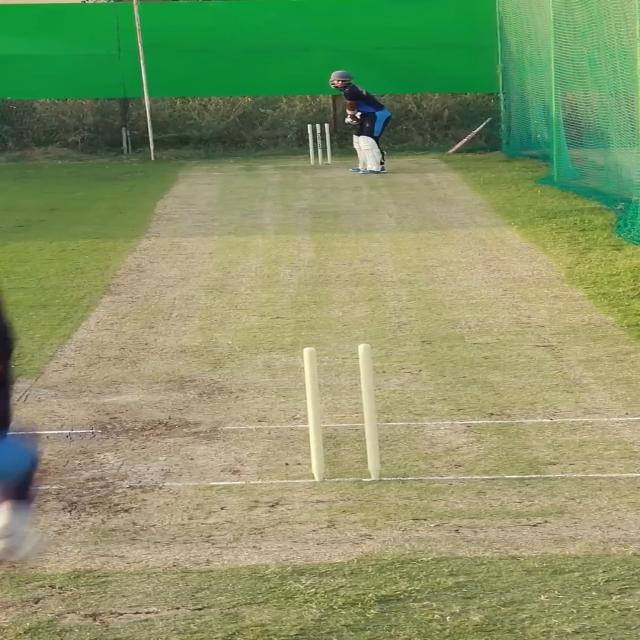stump: (303, 342, 382, 481), (306, 123, 332, 165)
